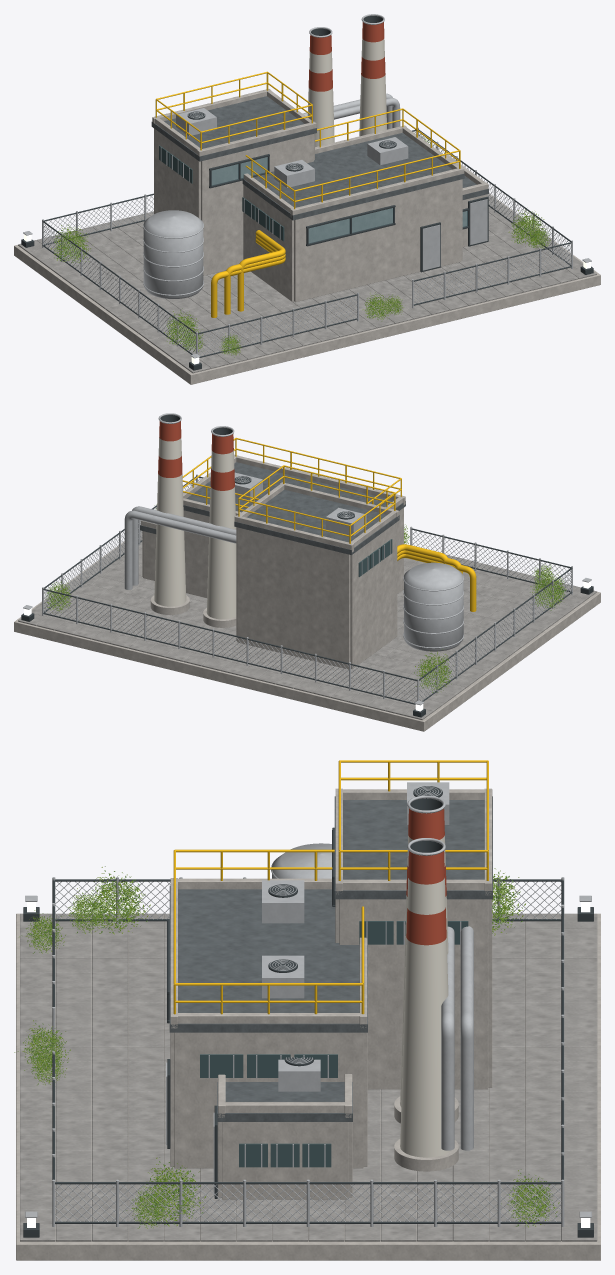
File: central_termoelectrica.fbx
The picture shows the model from 3 angles, top to bottom: view 1: azimuth 30°, elevation 25°; view 2: azimuth 150°, elevation 25°; view 3: azimuth 270°, elevation 25°; orthographic projection. The views are drawn at different scales.
Visible parts, largest first — view 1: Solar · Loseta mineral, Bloques de generación · Prefabricado caliza, Bloques de generación · Membrana bituminosa, Cerramiento · Inox cepillado, Solar · Prefabricado caliza, Chimeneas y colectores · Inox cepillado, Bloques de generación · Amarillo de pasarelas, Bloques de generación · Inox cepillado, Chimeneas y colectores · Esmalte marfil, Cerramiento · Perfilería antracita, Bloques de generación · Cristal de control, Chimeneas y colectores · Amarillo de pasarelas (+8 smaller); view 2: Solar · Loseta mineral, Bloques de generación · Prefabricado caliza, Cerramiento · Inox cepillado, Chimeneas y colectores · Inox cepillado, Chimeneas y colectores · Esmalte marfil, Solar · Prefabricado caliza, Bloques de generación · Membrana bituminosa, Bloques de generación · Amarillo de pasarelas, Cerramiento · Perfilería antracita, Chimeneas y colectores · Bandas rojas, Chimeneas y colectores · Prefabricado caliza, Bloques de generación · Inox cepillado (+5 smaller); view 3: Solar · Loseta mineral, Bloques de generación · Prefabricado caliza, Bloques de generación · Membrana bituminosa, Solar · Prefabricado caliza, Cerramiento · Inox cepillado, Chimeneas y colectores · Prefabricado caliza, Chimeneas y colectores · Esmalte marfil, Chimeneas y colectores · Inox cepillado, Bloques de generación · Amarillo de pasarelas, Cerramiento · Perfilería antracita, Bloques de generación · Inox cepillado, Bloques de generación · Vidrio ahumado (+15 smaller).
Boxes of the visible parts, left/top/right/bottom form: Solar · Loseta mineral: left=18, top=194, right=596, bottom=373; Bloques de generación · Prefabricado caliza: left=152, top=89, right=464, bottom=302; Bloques de generación · Membrana bituminosa: left=151, top=96, right=464, bottom=220; Cerramiento · Inox cepillado: left=42, top=127, right=572, bottom=355; Solar · Prefabricado caliza: left=14, top=193, right=600, bottom=384; Chimeneas y colectores · Inox cepillado: left=143, top=14, right=487, bottom=298; Bloques de generación · Amarillo de pasarelas: left=155, top=71, right=460, bottom=209; Bloques de generación · Inox cepillado: left=160, top=108, right=440, bottom=270; Chimeneas y colectores · Esmalte marfil: left=307, top=39, right=387, bottom=146; Cerramiento · Perfilería antracita: left=42, top=129, right=571, bottom=357; Bloques de generación · Cristal de control: left=211, top=157, right=393, bottom=243; Chimeneas y colectores · Amarillo de pasarelas: left=211, top=230, right=285, bottom=317; Solar · Loseta mineral: left=18, top=531, right=596, bottom=719; Bloques de generación · Prefabricado caliza: left=183, top=454, right=405, bottom=669; Cerramiento · Inox cepillado: left=42, top=474, right=572, bottom=702; Chimeneas y colectores · Inox cepillado: left=124, top=413, right=463, bottom=651; Chimeneas y colectores · Esmalte marfil: left=154, top=437, right=236, bottom=619; Solar · Prefabricado caliza: left=14, top=541, right=600, bottom=731; Bloques de generación · Membrana bituminosa: left=183, top=462, right=405, bottom=554; Bloques de generación · Amarillo de pasarelas: left=182, top=437, right=401, bottom=543; Cerramiento · Perfilería antracita: left=43, top=476, right=572, bottom=704; Chimeneas y colectores · Bandas rojas: left=158, top=421, right=234, bottom=490; Chimeneas y colectores · Prefabricado caliza: left=140, top=509, right=236, bottom=627; Bloques de generación · Inox cepillado: left=234, top=472, right=390, bottom=575; Solar · Loseta mineral: left=20, top=913, right=597, bottom=1241; Bloques de generación · Prefabricado caliza: left=170, top=788, right=492, bottom=1168; Bloques de generación · Membrana bituminosa: left=169, top=796, right=492, bottom=1032; Solar · Prefabricado caliza: left=16, top=913, right=600, bottom=1260; Cerramiento · Inox cepillado: left=52, top=877, right=564, bottom=1226; Chimeneas y colectores · Prefabricado caliza: left=217, top=1074, right=458, bottom=1199; Chimeneas y colectores · Esmalte marfil: left=400, top=835, right=450, bottom=1157; Chimeneas y colectores · Inox cepillado: left=213, top=795, right=473, bottom=1194; Bloques de generación · Amarillo de pasarelas: left=173, top=760, right=488, bottom=1014; Cerramiento · Perfilería antracita: left=52, top=879, right=563, bottom=1223; Bloques de generación · Inox cepillado: left=166, top=782, right=461, bottom=1145; Bloques de generación · Vidrio ahumado: left=200, top=921, right=468, bottom=1077.
Size of the model in its own units: 15.4 by 7.2 by 11.54.
Materials: 15 (4 with a texture image).
